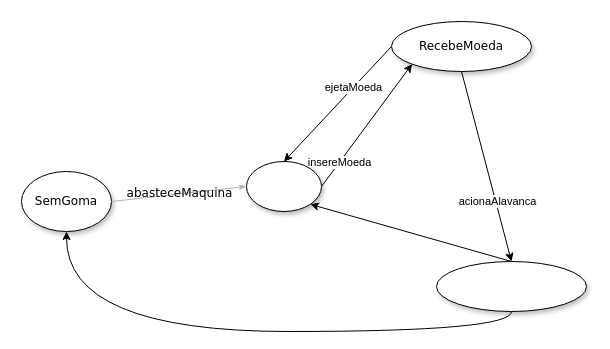
Some shapes in this 610 by 349 pixel diagram are drawn without their labels. Each missing label, with the centre of its shape:
GomaVendida: the point at 512,287
SemMoeda: the point at 285,187
